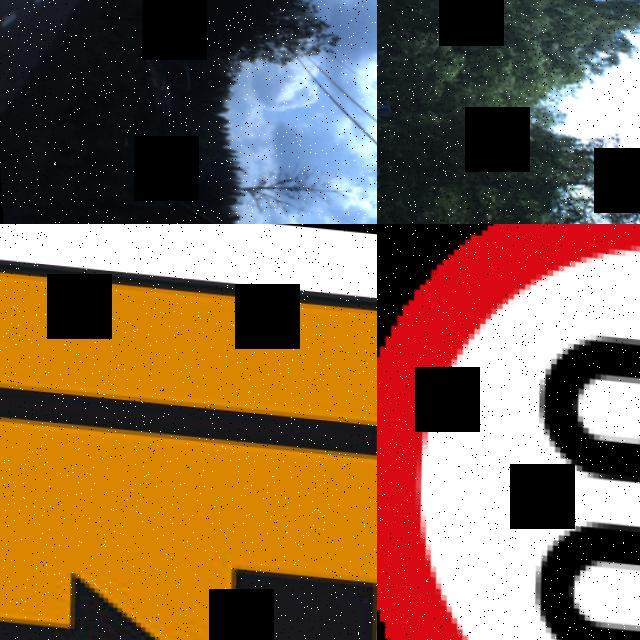172: (156, 6, 182, 40)
180: (377, 94, 387, 114)
57: (177, 9, 203, 30)
63: (0, 233, 377, 640)
speed limit-80: (377, 224, 640, 640)
